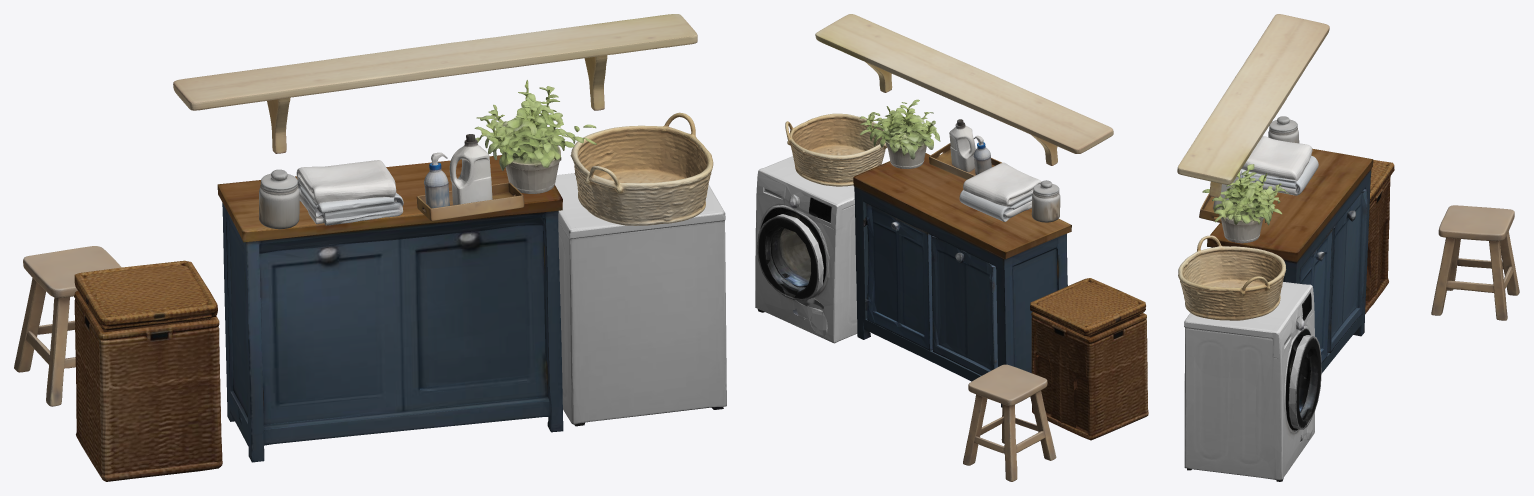
3 views of the same model, side by side, from view 1: azimuth 30°, elevation 25°; view 2: azimuth 150°, elevation 25°; view 3: azimuth 270°, elevation 25° (orthographic). The views are drawn at different scales.
Parts seen in each view (by area): view 1: obj_1_part_0, obj_0_part_0, obj_2_part_0, obj_9_part_0, obj_3_part_0, obj_2_part_1, obj_4_part_0, obj_5_part_0, obj_6_part_0, obj_7_part_0, obj_8_part_0; view 2: obj_1_part_0, obj_0_part_0, obj_9_part_0, obj_2_part_0, obj_1_part_2, obj_1_part_1, obj_4_part_0, obj_3_part_0, obj_2_part_1, obj_6_part_0, obj_5_part_0, obj_0_part_1 (+2 smaller); view 3: obj_0_part_0, obj_9_part_0, obj_1_part_0, obj_3_part_0, obj_4_part_0, obj_1_part_1, obj_5_part_0, obj_6_part_0, obj_2_part_0, obj_1_part_2, obj_0_part_1, obj_8_part_0 (+2 smaller).
Part boxes in pixels (<box>): obj_1_part_0: <box>217,155,563,462</box>; obj_0_part_0: <box>555,173,726,426</box>; obj_2_part_0: <box>74,291,222,481</box>; obj_9_part_0: <box>173,14,697,153</box>; obj_3_part_0: <box>570,112,713,225</box>; obj_2_part_1: <box>74,260,217,330</box>; obj_4_part_0: <box>14,246,121,406</box>; obj_5_part_0: <box>474,80,596,193</box>; obj_6_part_0: <box>296,160,403,225</box>; obj_7_part_0: <box>416,134,524,221</box>; obj_8_part_0: <box>259,169,299,229</box>; obj_1_part_0: <box>853,153,1071,407</box>; obj_0_part_0: <box>755,156,857,343</box>; obj_9_part_0: <box>815,14,1113,165</box>; obj_2_part_0: <box>1031,312,1148,440</box>; obj_1_part_2: <box>862,203,932,350</box>; obj_1_part_1: <box>931,236,997,375</box>; obj_4_part_0: <box>963,364,1056,481</box>; obj_3_part_0: <box>785,113,887,186</box>; obj_2_part_1: <box>1030,278,1145,336</box>; obj_6_part_0: <box>959,162,1041,221</box>; obj_5_part_0: <box>859,99,940,168</box>; obj_0_part_1: <box>757,214,823,300</box>; obj_0_part_0: <box>1184,282,1314,481</box>; obj_9_part_0: <box>1177,14,1329,197</box>; obj_1_part_0: <box>1207,148,1373,373</box>; obj_3_part_0: <box>1178,235,1286,320</box>; obj_4_part_0: <box>1431,205,1519,320</box>; obj_1_part_1: <box>1327,189,1367,352</box>; obj_5_part_0: <box>1202,164,1288,243</box>; obj_6_part_0: <box>1241,136,1318,195</box>; obj_2_part_0: <box>1365,176,1390,314</box>; obj_1_part_2: <box>1299,228,1332,363</box>; obj_0_part_1: <box>1288,335,1321,429</box>; obj_8_part_0: <box>1268,116,1299,143</box>.
Bounding box in the file's own units: 1.57 × 1.01 × 1.08.
8 materials, 7 textured.
